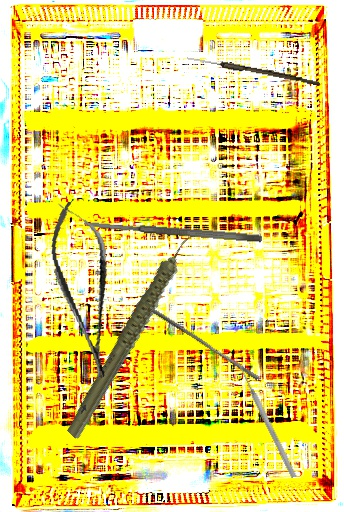Handpiece: (29, 228, 240, 442)
Micro Scissor: (42, 197, 126, 382)
Pusher: (148, 308, 262, 381), (235, 361, 298, 479)
Spatula Surgical: (83, 218, 263, 244)
Surgical Spoon: (186, 55, 321, 86)
